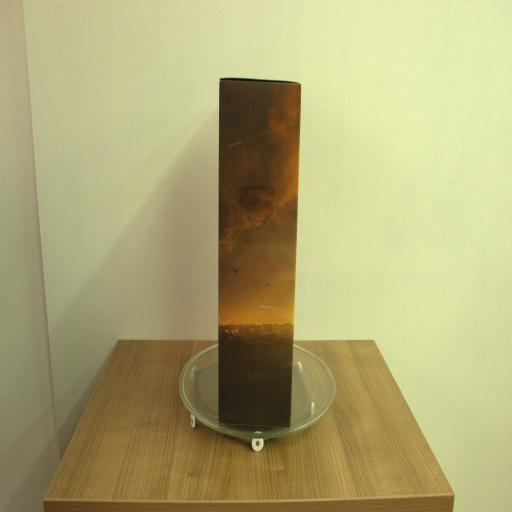superman: (218, 78, 301, 431)
